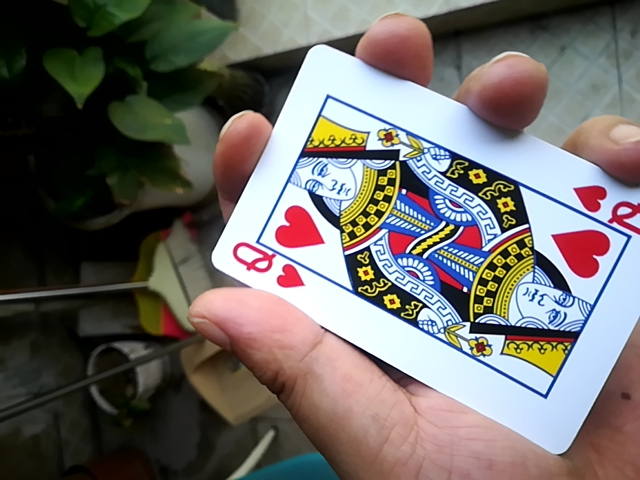hx q: (201, 47, 639, 455)
